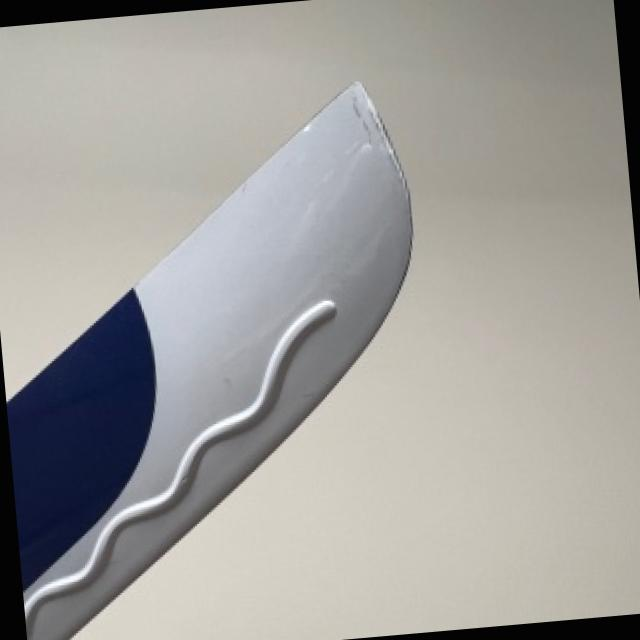healthy: (8, 85, 413, 640)
